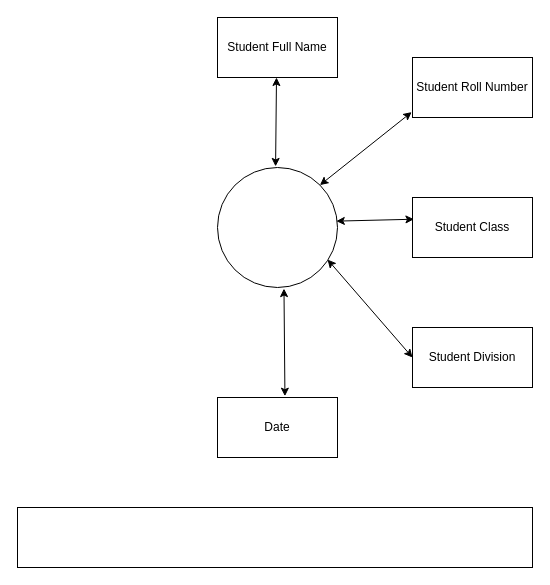
This 550x585 diagram has some shape labels left out. The box of each missing label's shape, as (x1, y1, x2, y2) in pixels:
Student Record APP: (216, 166, 338, 288)
Zero Level DFD - Student Record APP: (16, 506, 532, 568)
